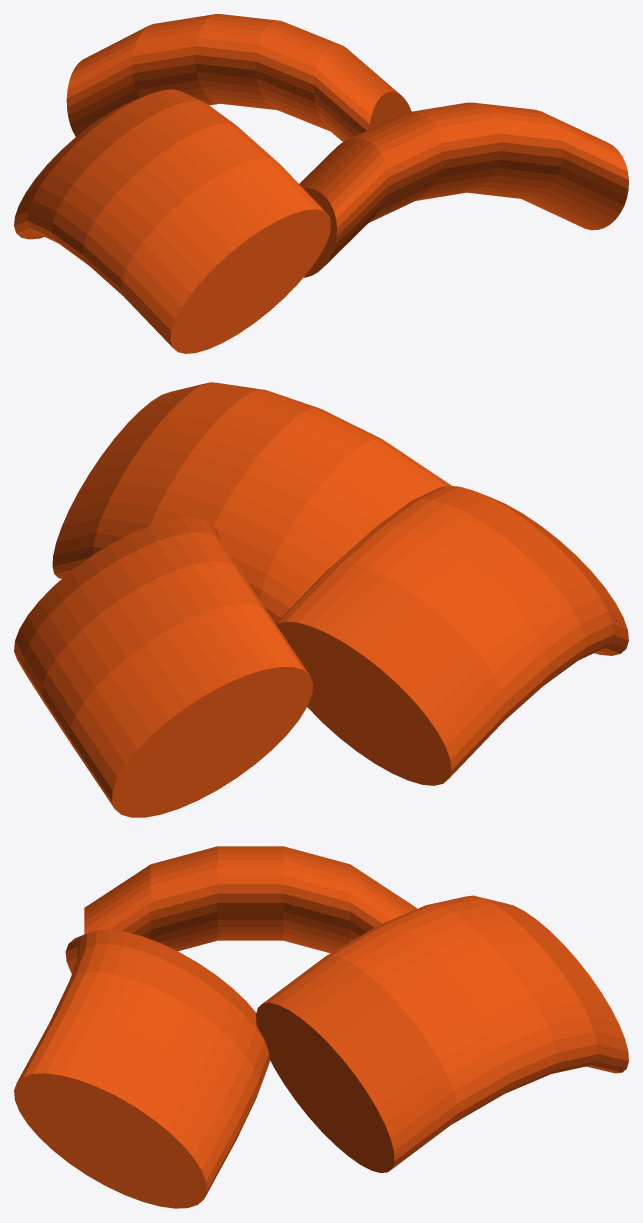
The model's file is PorkCracklingPortion.fbx.
3 views of the same model, one above another, from view 1: azimuth 30°, elevation 25°; view 2: azimuth 150°, elevation 25°; view 3: azimuth 270°, elevation 25° (orthographic). The views are drawn at different scales.
Visible parts, largest first — view 1: PorkCracklingPortion, PorkCracklingPiece1, PorkCracklingPiece; view 2: PorkCracklingPortion, PorkCracklingPiece, PorkCracklingPiece1; view 3: PorkCracklingPiece, PorkCracklingPiece1, PorkCracklingPortion.
Part boxes in pixels (<box>): PorkCracklingPortion: <box>14,89,330,353</box>; PorkCracklingPiece1: <box>299,102,628,277</box>; PorkCracklingPiece: <box>66,14,411,141</box>; PorkCracklingPortion: <box>275,485,628,785</box>; PorkCracklingPiece: <box>14,517,312,817</box>; PorkCracklingPiece1: <box>52,382,451,623</box>; PorkCracklingPiece: <box>256,895,628,1172</box>; PorkCracklingPiece1: <box>14,929,269,1208</box>; PorkCracklingPortion: <box>84,846,416,953</box>.
Size of the model in its own units: 158 by 52.16 by 166.
